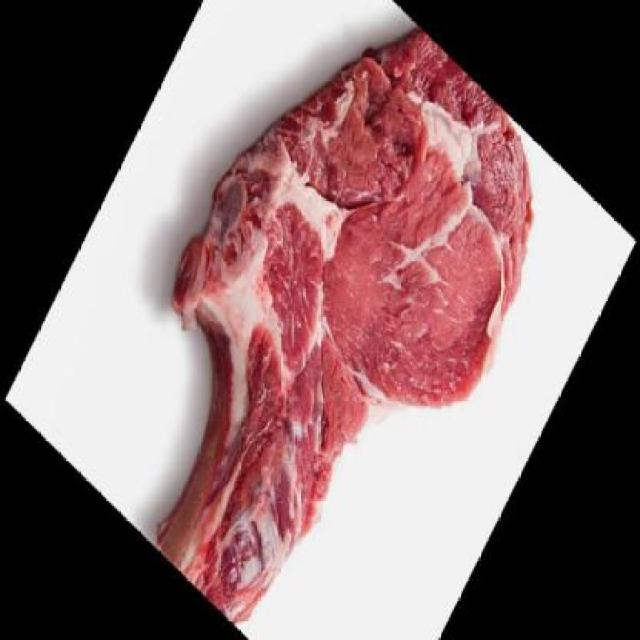beef: (157, 28, 539, 628)
